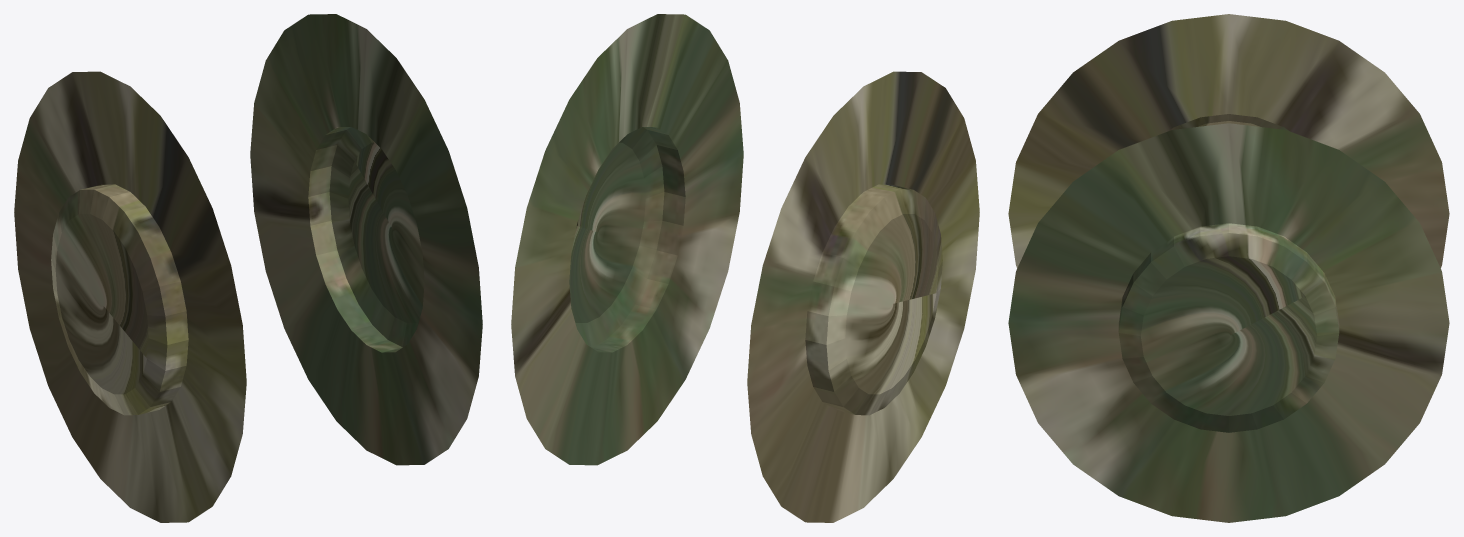
Rendered from WheelFL_Plate.obj.
3 renders of one model, left to right at view 1: azimuth 30°, elevation 25°; view 2: azimuth 150°, elevation 25°; view 3: azimuth 270°, elevation 25°, orthographic. The views are drawn at different scales.
Parts seen in each view (by area): view 1: WheelFL_Plate; view 2: WheelFL_Plate; view 3: WheelFL_Plate.
Boxes of the visible parts, x1,y1,x2,y2 form: WheelFL_Plate: (14, 14, 482, 522); WheelFL_Plate: (511, 14, 979, 522); WheelFL_Plate: (1008, 14, 1449, 522).
Bounding box in the file's own units: 1.39 × 1.92 × 1.92.
